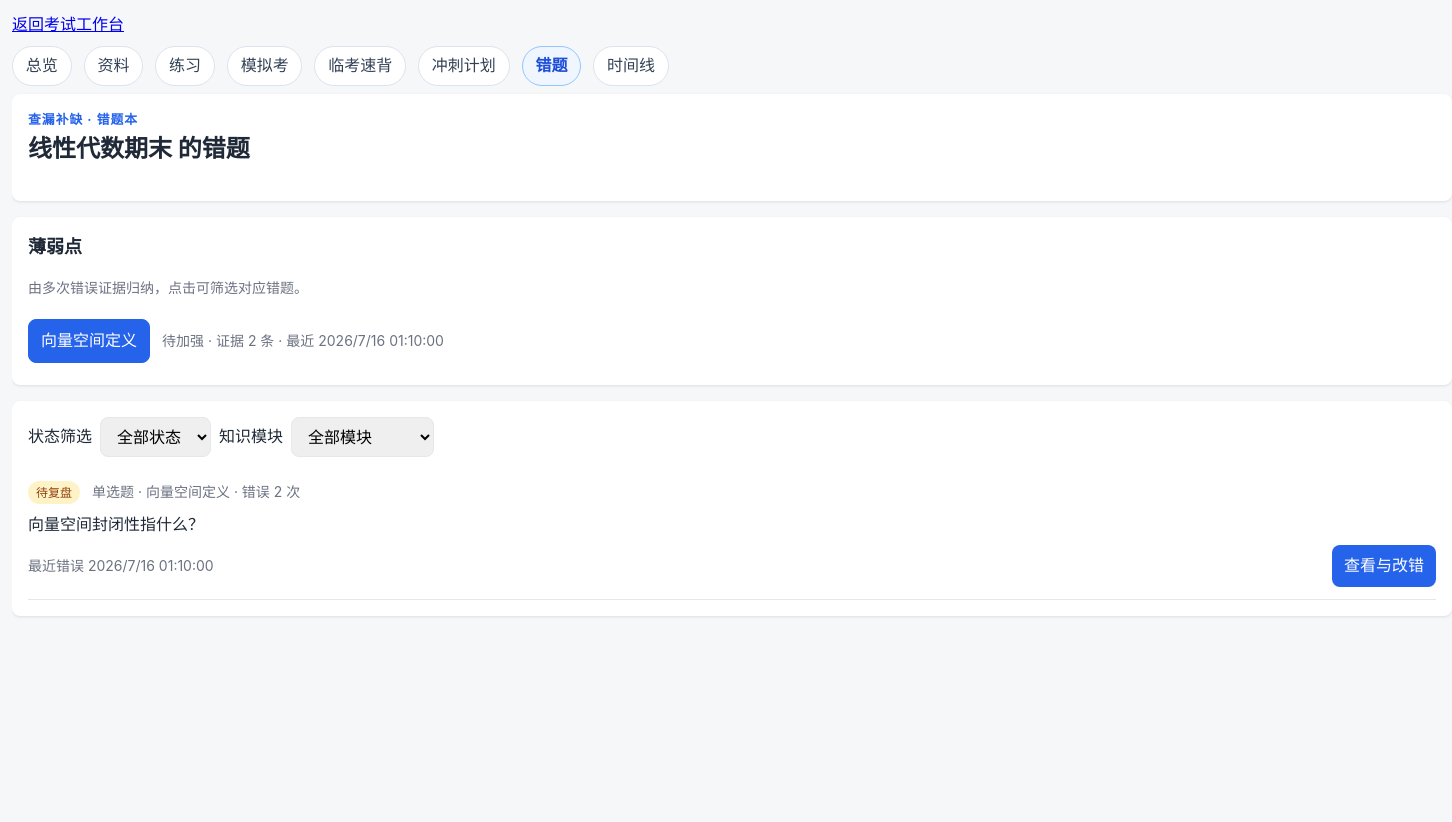
Scenario: S4 错题本前端交互 › 错题列表展示状态、薄弱点与空态筛选
The width and height of the screenshot is (1452, 822).
Expected: the element with test id "weak-points" shows "证据 2 条", [12,217,1451,385]
Step 1. Select "已掌握" in the dropdown with id "statusFilter" → x=156, y=437, box [100,417,211,457]
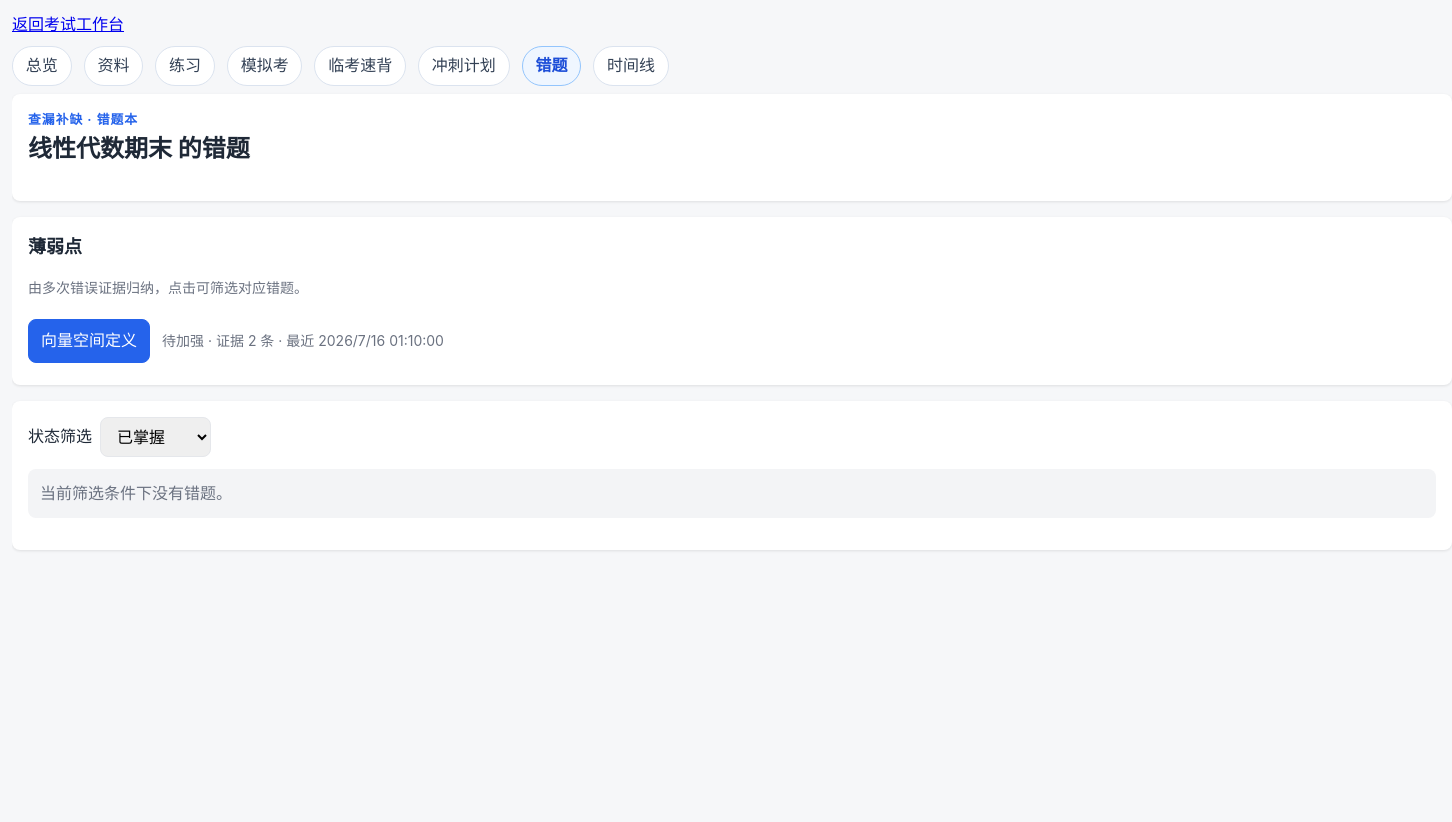
Result: the text "当前筛选条件下没有错题" is shown at [40,483,232,503]
